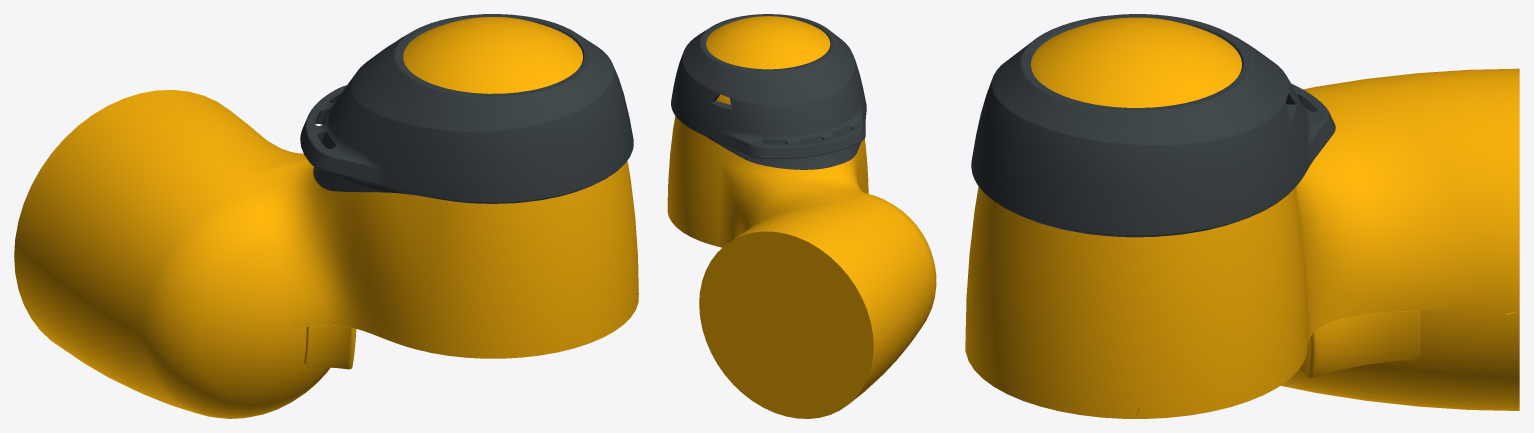
3 renders of one model, left to right at view 1: azimuth 30°, elevation 25°; view 2: azimuth 150°, elevation 25°; view 3: azimuth 270°, elevation 25°, orthographic. The views are drawn at different scales.
Parts seen in each view (by area): view 1: 04_FP3_ELBOW, 04_FP3_ELBOW_0; view 2: 04_FP3_ELBOW, 04_FP3_ELBOW_0; view 3: 04_FP3_ELBOW, 04_FP3_ELBOW_0.
Part boxes in pixels (x1,y1,x2,y2): 04_FP3_ELBOW: [14, 17, 638, 418]; 04_FP3_ELBOW_0: [300, 14, 633, 203]; 04_FP3_ELBOW: [667, 16, 936, 418]; 04_FP3_ELBOW_0: [671, 14, 866, 169]; 04_FP3_ELBOW: [965, 17, 1519, 418]; 04_FP3_ELBOW_0: [971, 14, 1335, 237].
Bounding box in the file's own units: 0.1925 × 0.1778 × 0.166.
